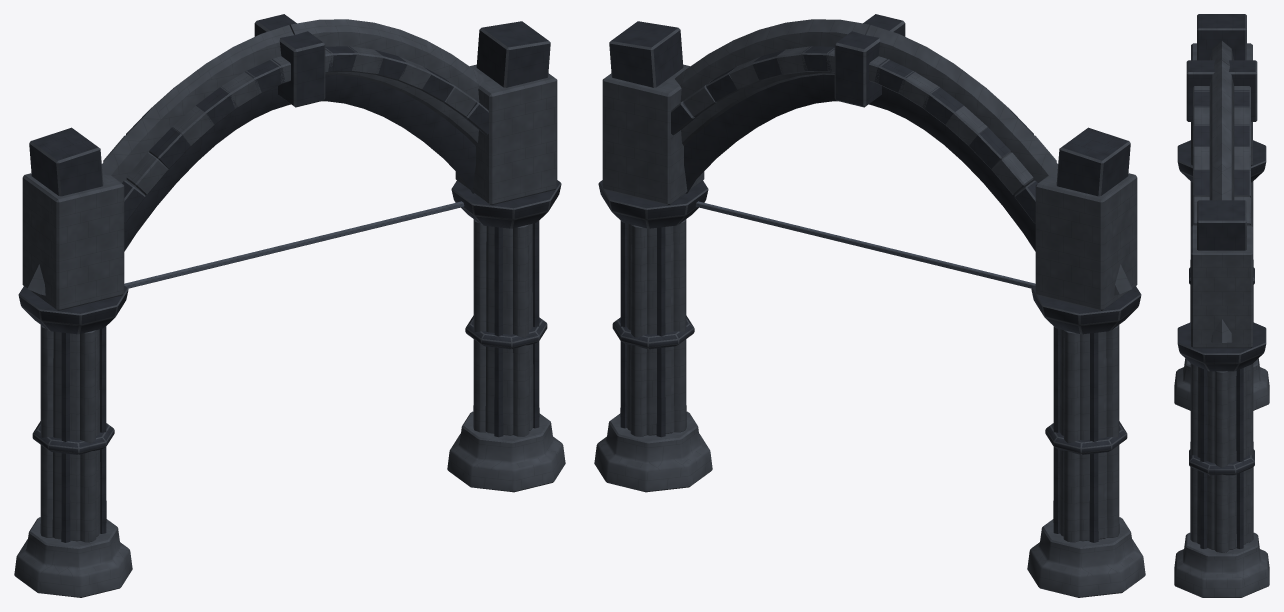
File: kit_gothic_arch.glb
The picture shows the model from 3 angles, left to right: view 1: azimuth 30°, elevation 25°; view 2: azimuth 150°, elevation 25°; view 3: azimuth 270°, elevation 25°; orthographic projection. The views are drawn at different scales.
Visible parts, largest first — view 1: GothicArch; view 2: GothicArch; view 3: GothicArch.
Boxes of the visible parts, x1=… form: GothicArch: x1=14, y1=14, x2=565, y2=597; GothicArch: x1=594, y1=14, x2=1145, y2=597; GothicArch: x1=1174, y1=14, x2=1269, y2=597.
Bounding box in the file's own units: 8.92 × 7.99 × 1.62.
Materials: 3 (3 with a texture image).
